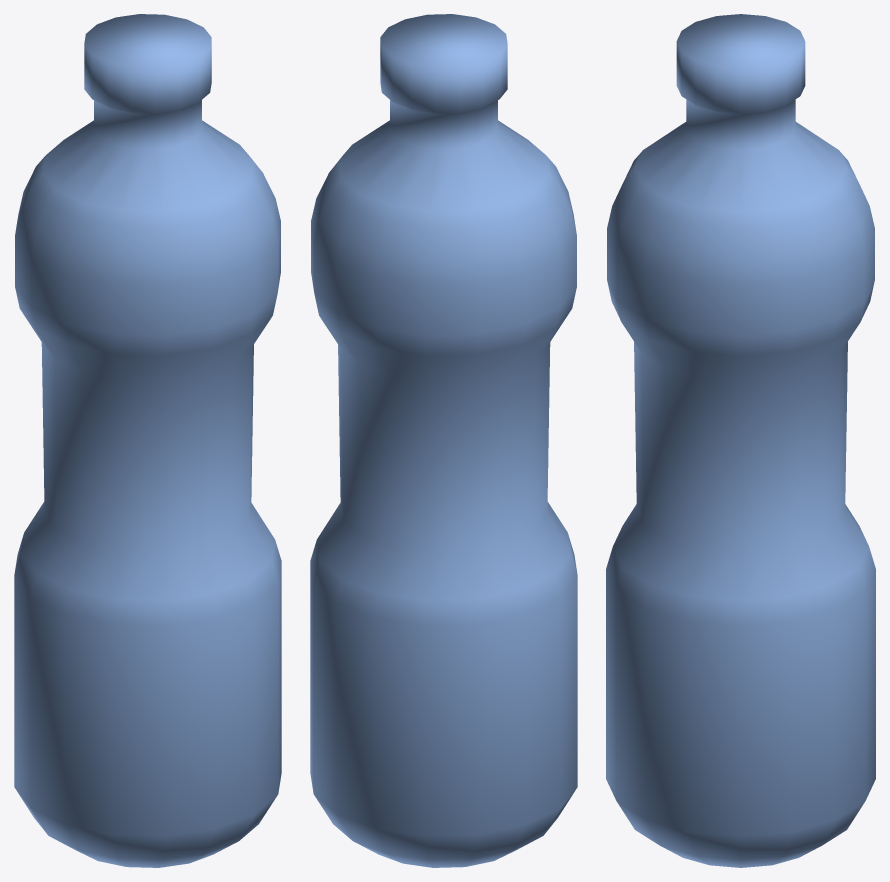
The model's file is acqua_mini.fbx.
3 renders of one model, left to right at view 1: azimuth 30°, elevation 25°; view 2: azimuth 150°, elevation 25°; view 3: azimuth 270°, elevation 25°, orthographic.
Parts seen in each view (by area): view 1: Acqua; view 2: Acqua; view 3: Acqua.
Part boxes in pixels (x1=…): Acqua: x1=14, y1=14, x2=281, y2=867; Acqua: x1=310, y1=14, x2=577, y2=867; Acqua: x1=606, y1=14, x2=875, y2=867.
Bounding box in the file's own units: 47.5 × 154 × 47.5.
